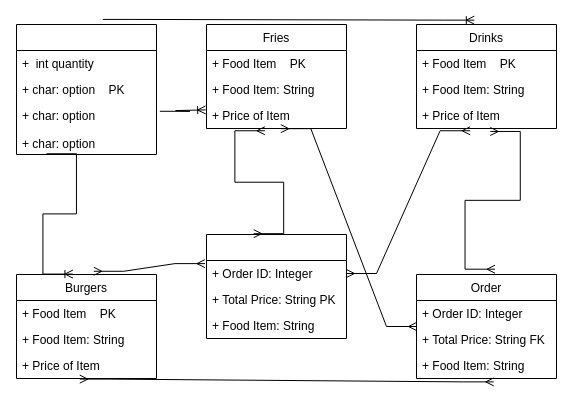
Some shapes in this 573 by 402 pixel diagram are drawn without their labels. Here are the shapes that lost their labels. From the top down, the box of each, then its label:
(16, 24, 156, 154): CountryCookin
(206, 234, 346, 338): IndividualOrder
